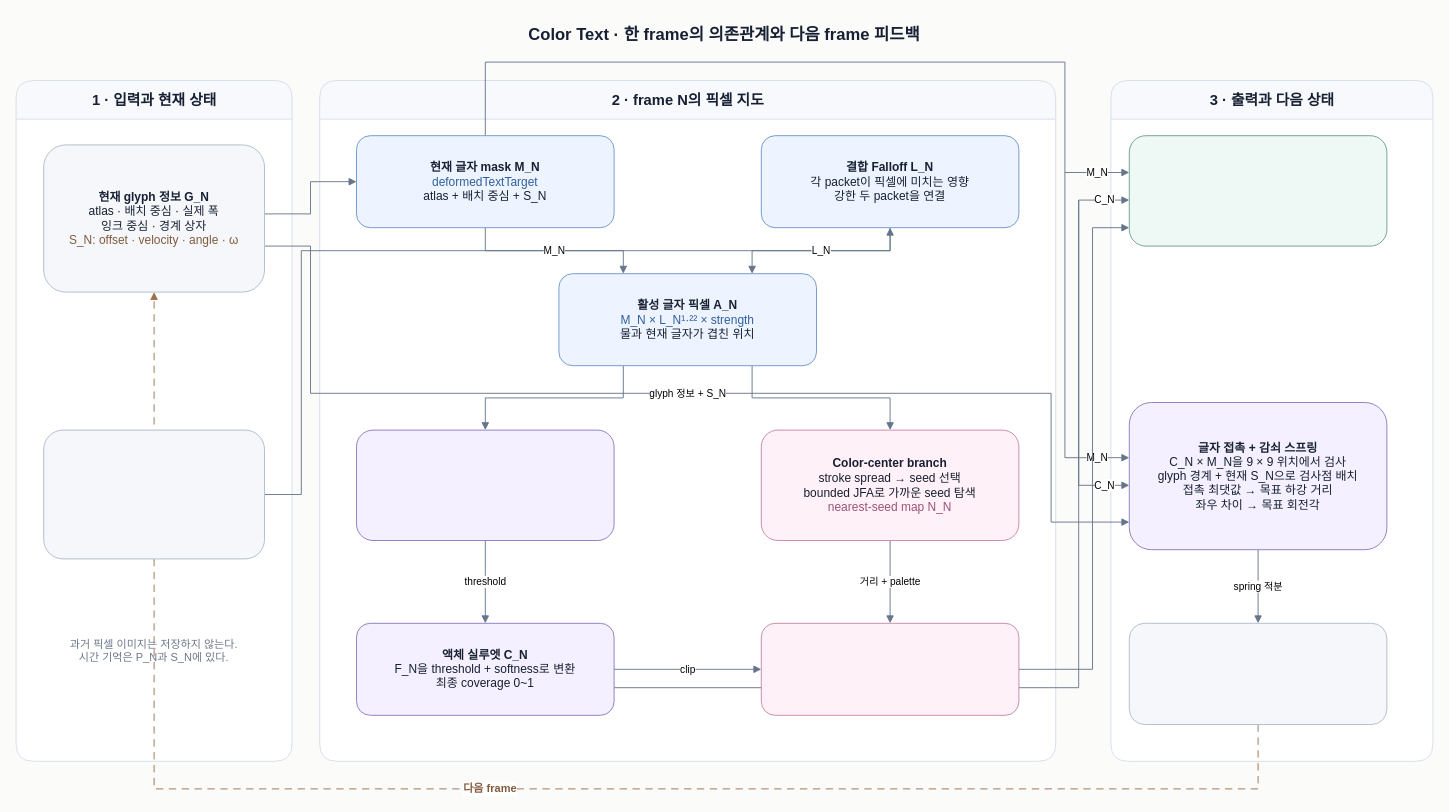
The diagram is 1449 pixels wide and 812 high, and some of its shapes have lost their labels. Here are the shapes that lost their labels. From the top down, the centre of each, then its label:
At (1257,190): "최종 화면 Frame_N composite(M_N, C_N, K_N) 실루엣 밖: 현재 글자 실루엣 안: 내부 색".
At (153,494): "현재 물 상태 P_N pointer → emitter packet 위치 · 속도 · age mass · energy · seed".
At (485,484): "Geometry branch threshold → 주변 192표본 누적 가로·세로 smoothing surface field F_N".
At (889,668): "내부 색 K_N seed 거리·강도 → 글자형 색 에너지 palette 적용 후 C_N 안으로 제한".
At (1257,673): "다음 spring 상태 S_(N+1) 새 offset · velocity 새 angle · angular velocity".
